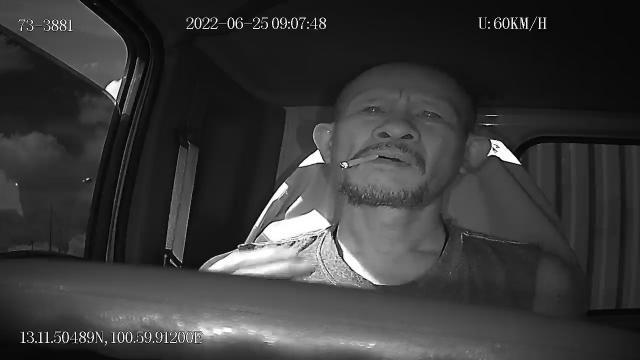SafeDriving: (408, 102, 448, 127), (354, 96, 393, 120)
Smoking: (341, 153, 379, 169)
